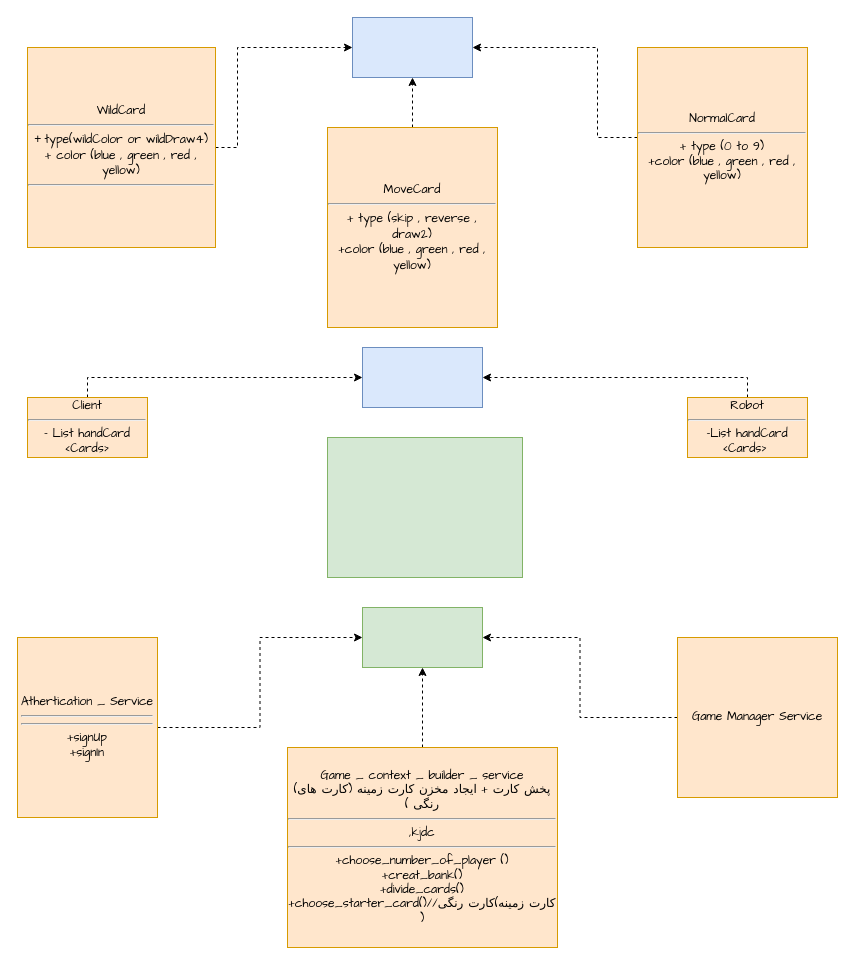
Image size: 855x965. Some labels were removed from this diagram. Each missing label, with the centre of its shape:
Bank -List allCards <cards> [108] -List remainCards <Cards>[ 79]: the point at 424,507
interface cards: the point at 412,47
interface User: the point at 422,377
ManageApp: the point at 422,637
